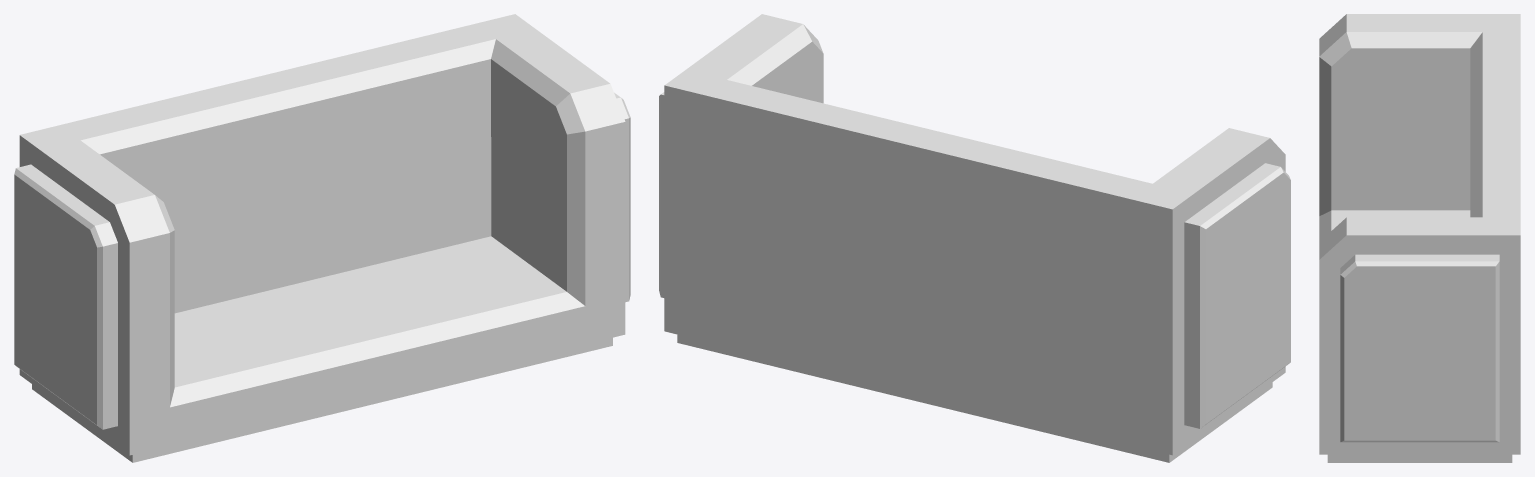
File: Cont_DisplayCase_1.fbx
3 renders of one model, left to right at view 1: azimuth 30°, elevation 25°; view 2: azimuth 150°, elevation 25°; view 3: azimuth 270°, elevation 25°, orthographic. The views are drawn at different scales.
Parts seen in each view (by area): view 1: Cont_DisplayCase_1; view 2: Cont_DisplayCase_1; view 3: Cont_DisplayCase_1.
Part boxes in pixels (x1,y1,x2,y2): Cont_DisplayCase_1: [14, 14, 630, 462]; Cont_DisplayCase_1: [659, 14, 1290, 462]; Cont_DisplayCase_1: [1319, 14, 1520, 462].
Size of the model in its own units: 2.89 by 1.31 by 1.03.
